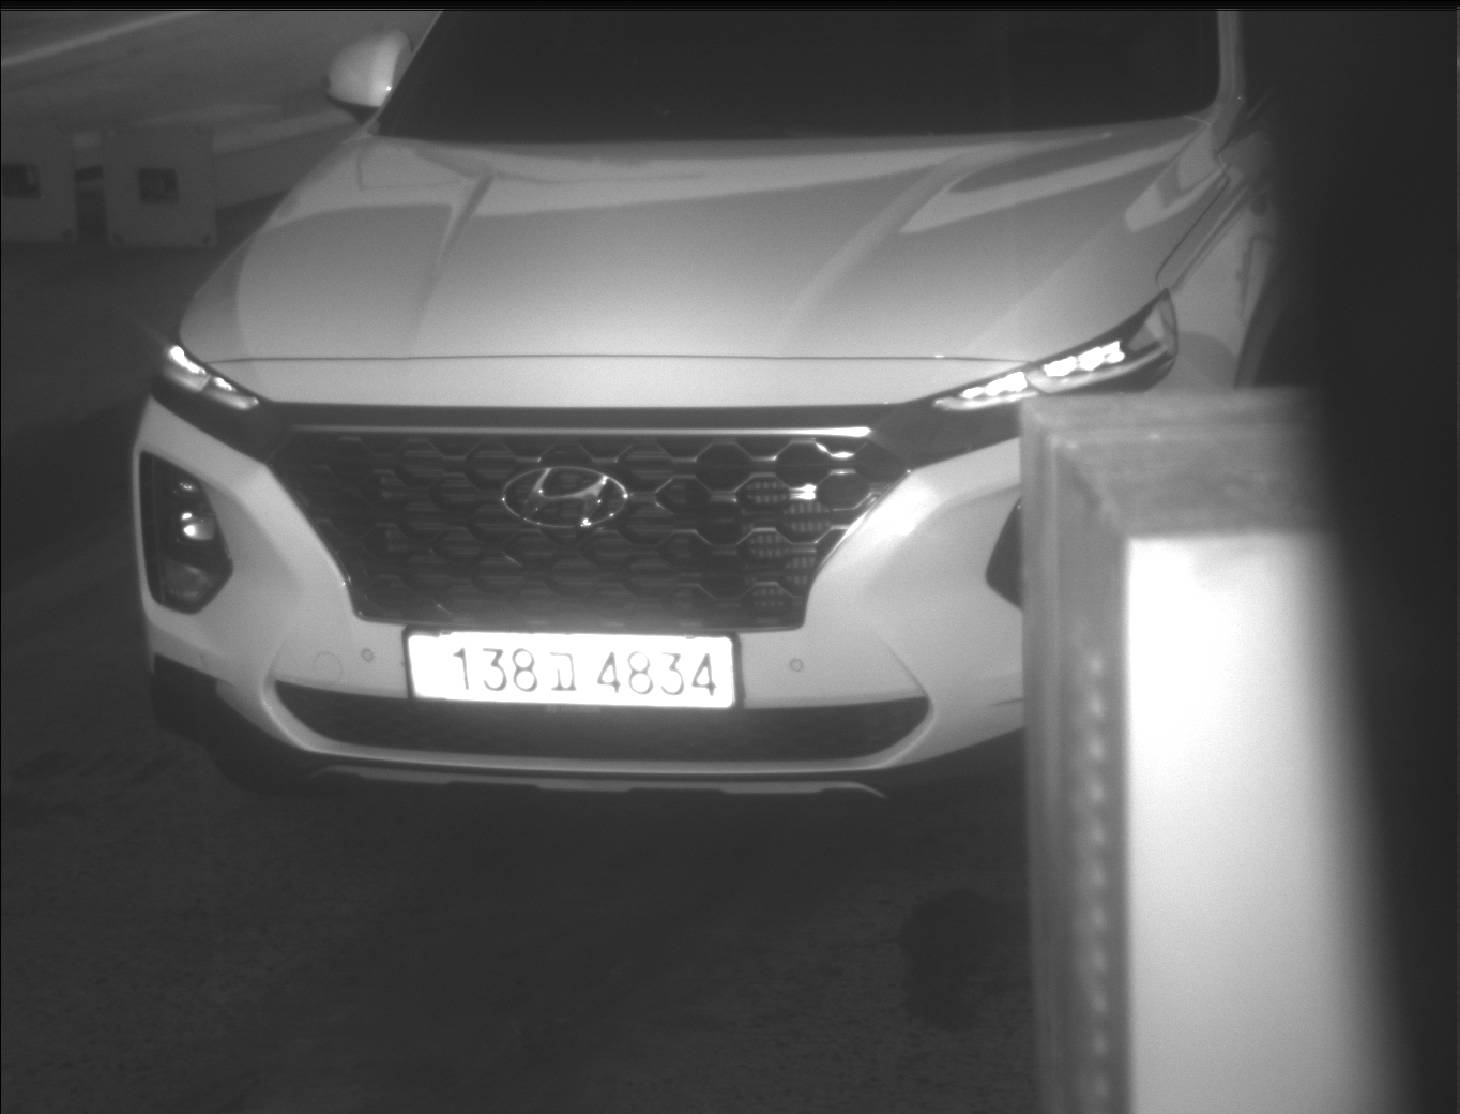car: (131, 6, 1339, 831)
plate: (403, 627, 737, 707)
